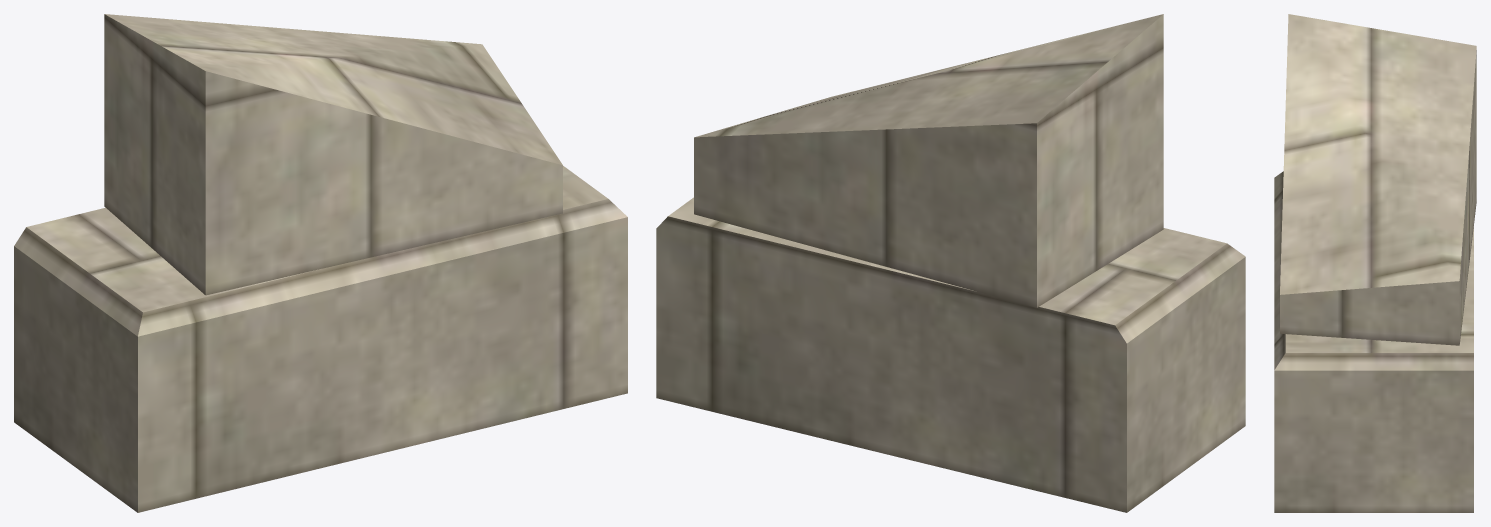
The model's file is debris_nyc_limestone_block.glb.
3 views of the same model, side by side, from view 1: azimuth 30°, elevation 25°; view 2: azimuth 150°, elevation 25°; view 3: azimuth 270°, elevation 25° (orthographic). The views are drawn at different scales.
Visible parts, largest first — view 1: debris_nyc_limestone_block; view 2: debris_nyc_limestone_block; view 3: debris_nyc_limestone_block.
Boxes of the visible parts, box(x1,y1,x2,y2) form: debris_nyc_limestone_block: box(14, 14, 627, 512); debris_nyc_limestone_block: box(656, 14, 1245, 512); debris_nyc_limestone_block: box(1274, 14, 1476, 512).
Size of the model in its own units: 1.6 by 1.3 by 0.71.
Materials: 1 (1 with a texture image).
